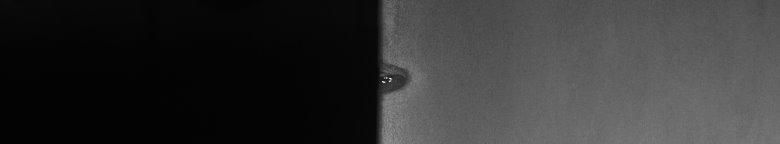hb: (388, 5, 420, 103)
